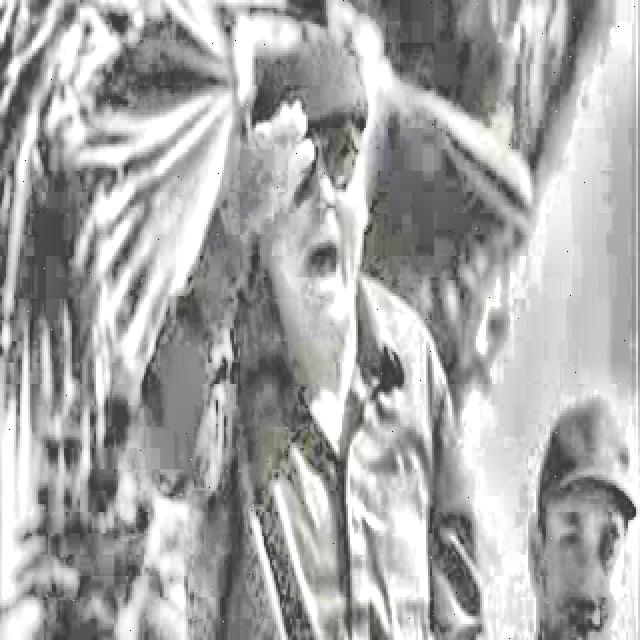T: (134, 34, 483, 640)
